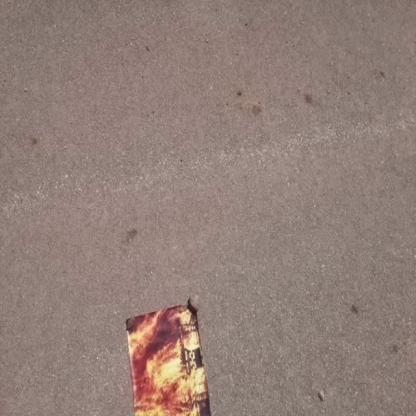fire-poster: (124, 297, 213, 415)
